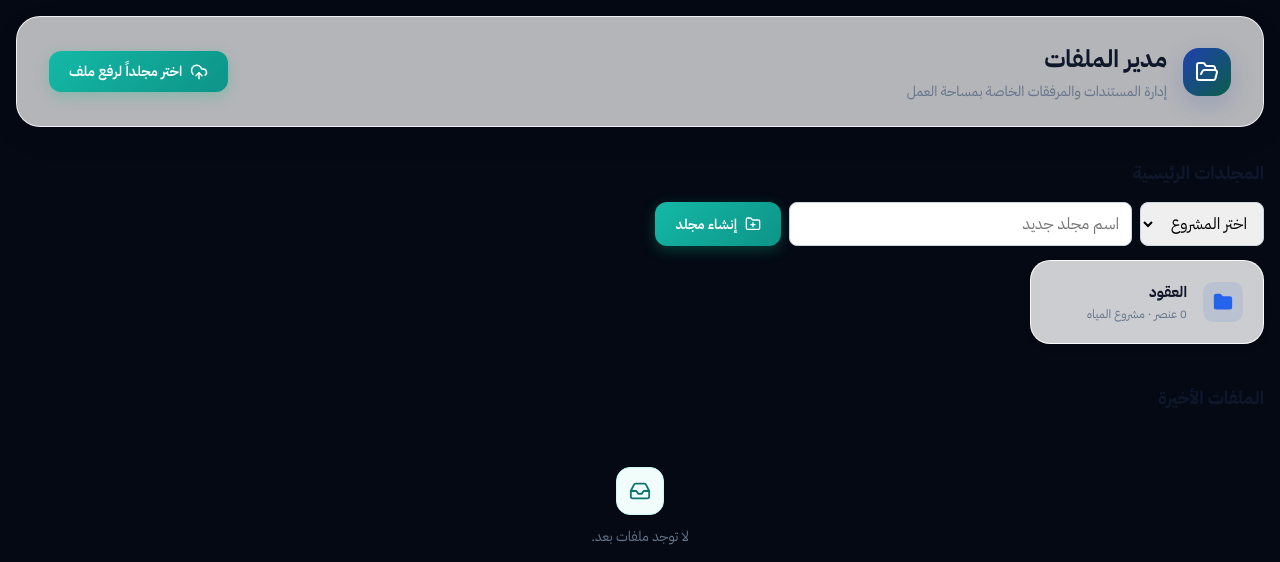
Test: folders and reports on the general pages › a file is uploaded into a folder: the upload button waits for one and sends folder_id
Expected: the button "اختر مجلداً لرفع ملف" is disabled, [49,51,228,92]
Click the button "العقود 0 عنصر · مشروع المياه".
click(1147, 302)  # box [1030,260,1264,344]
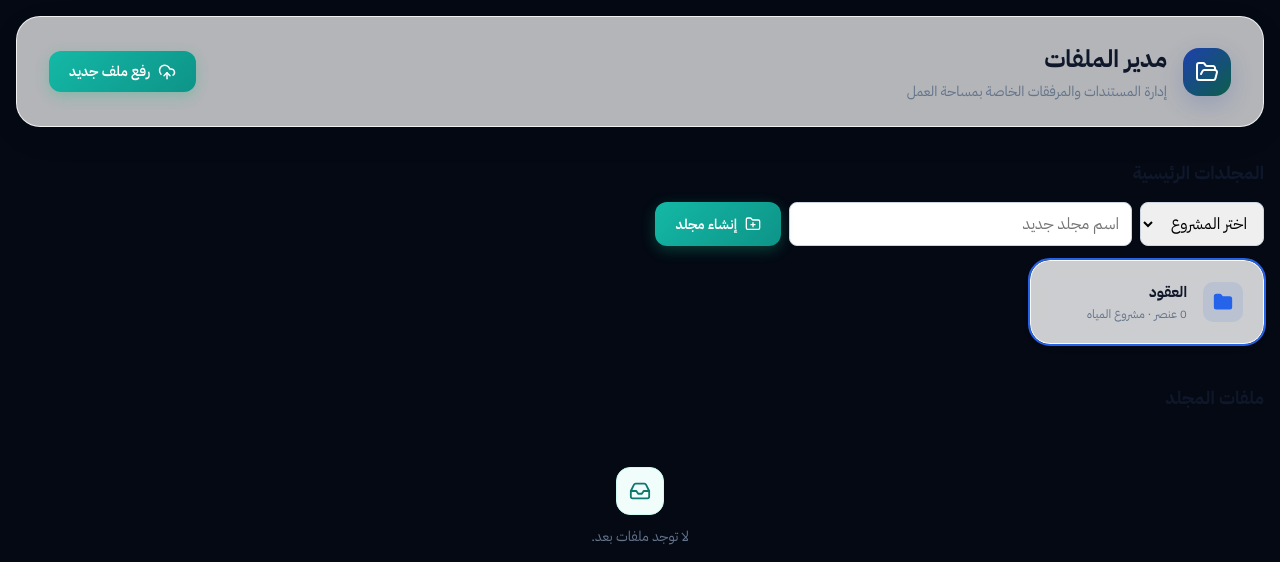
Result: the button "رفع ملف جديد" is enabled at [49,51,196,92]
